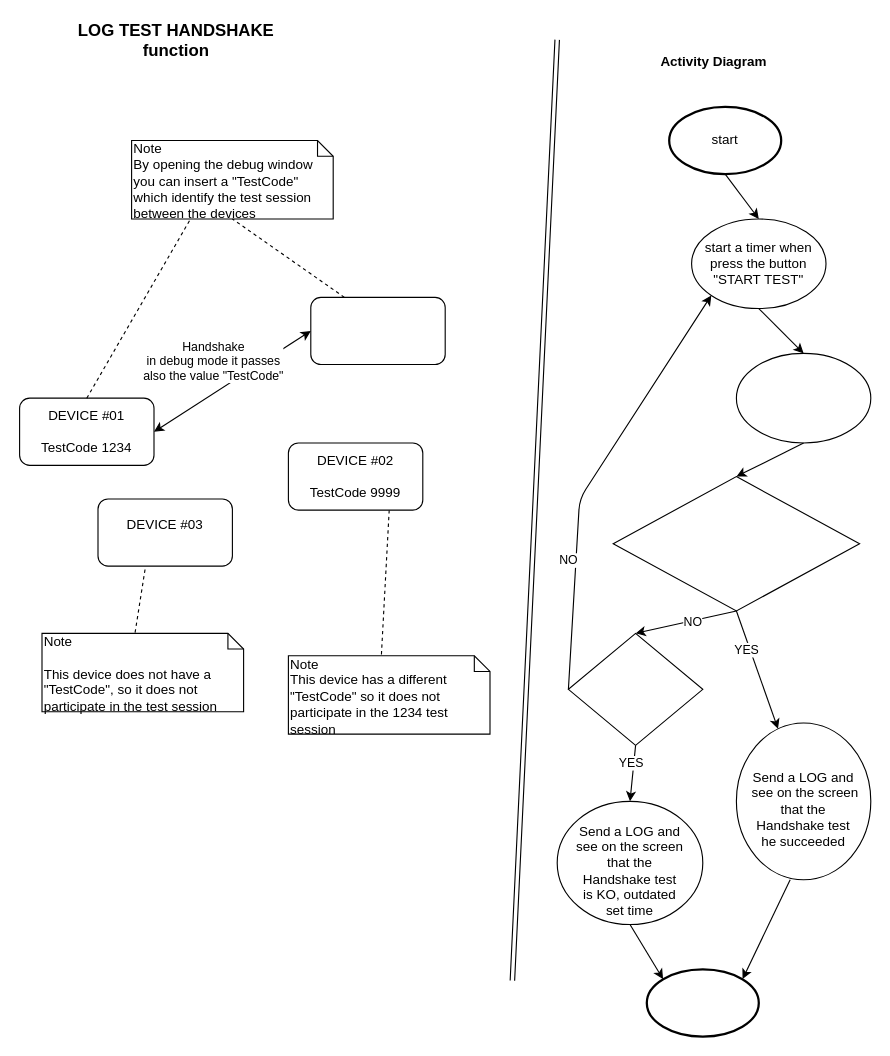
The diagram is 890 pixels wide and 1056 high, and some of its shapes have lost their labels. Each missing label, with the centre of its shape:
"DEVICE #02 TestCode 1234" belongs at pixel 377 330.
"end" belongs at pixel 702 1002.
"the TestCode in HANDSHAKE is the same as that device?" belongs at pixel 736 543.
"the timer has exceeded X time?" belongs at pixel 635 688.
"Wait the HANDSHAKE" belongs at pixel 803 397.
